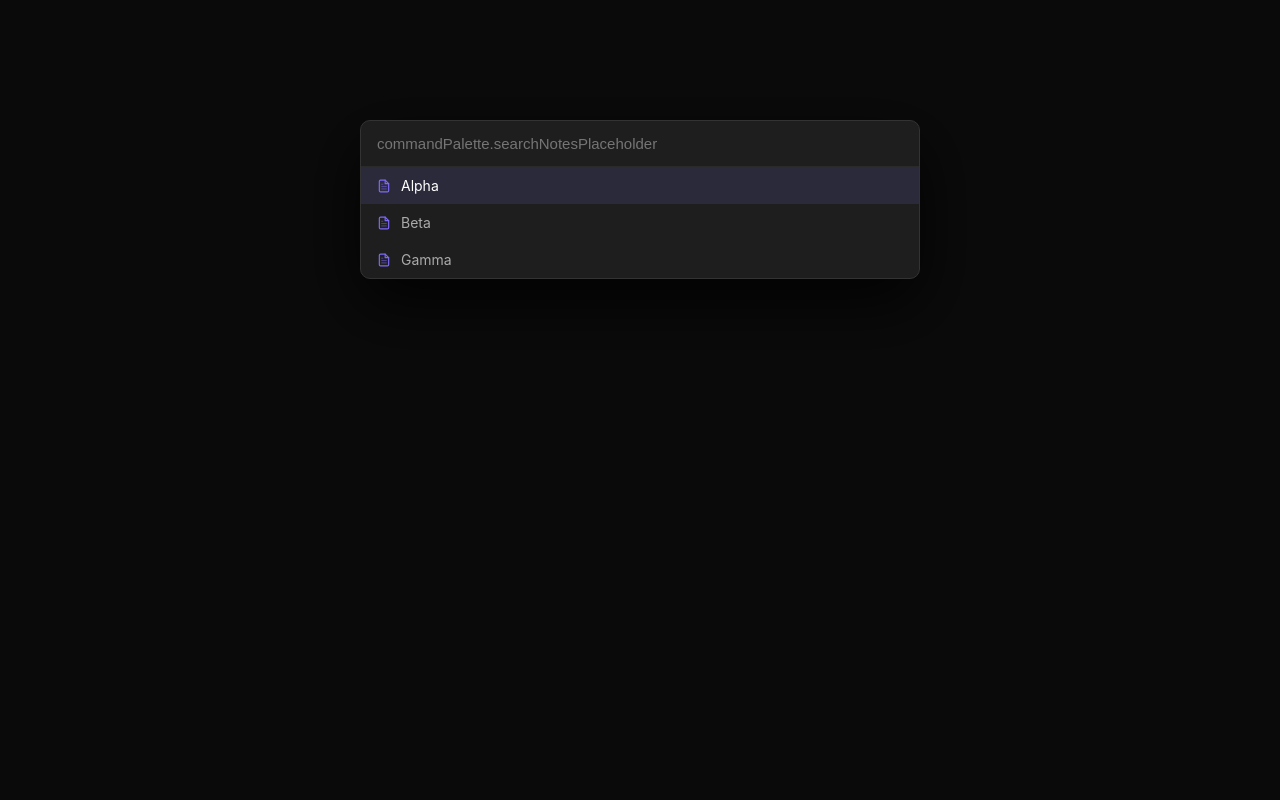
Scenario: CommandPalette › filters files by query
Type "alph" into the field with placeholder "commandPalette.searchNotesPlaceholder" at (640, 144), box [361,121,919,167]
Wait 150 ms
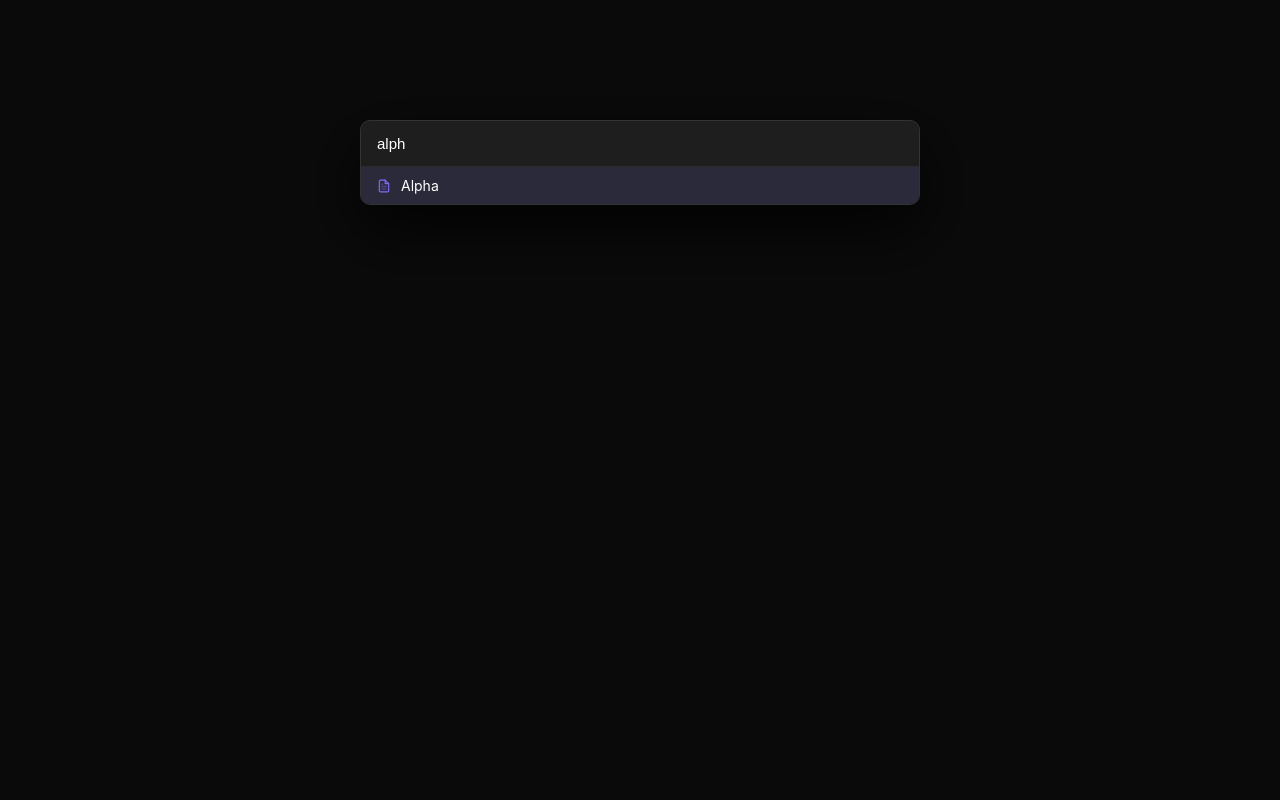
Check: the text "Alpha" is shown, box [401,177,439,194]
Check: the text "Beta" is gone
